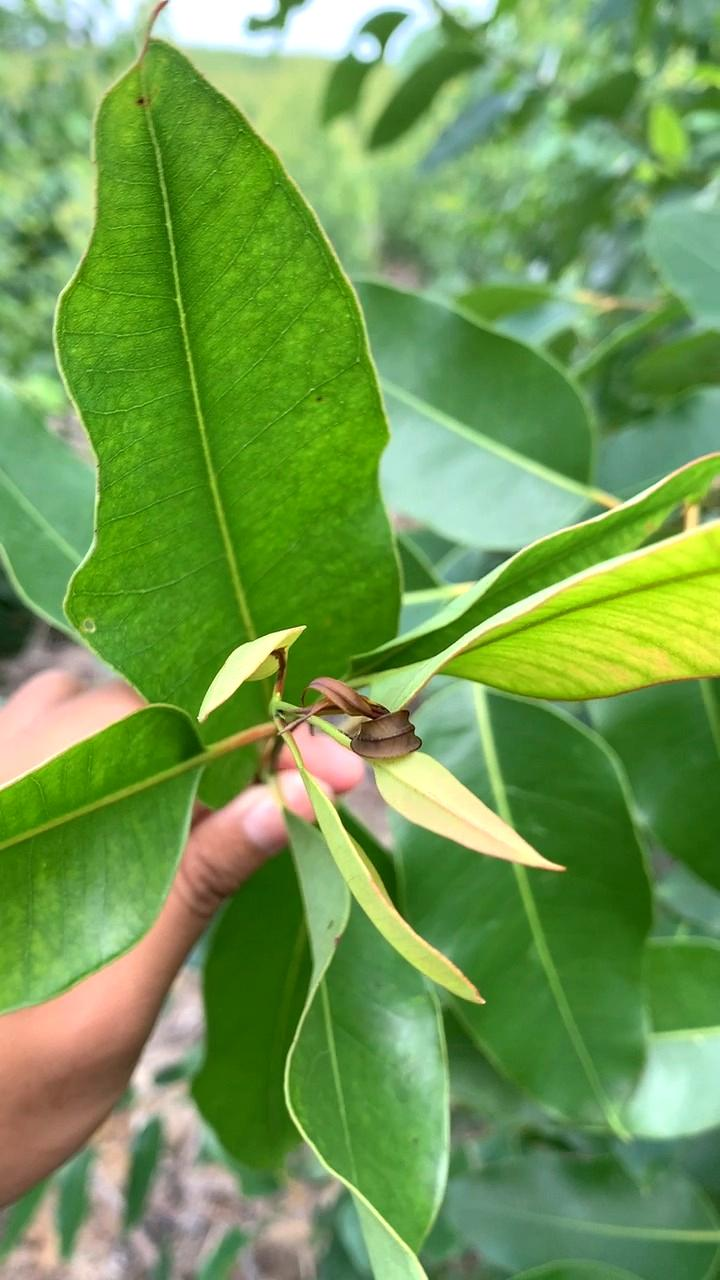Helopeltis-Withered Sprout: (295, 672, 421, 763)
